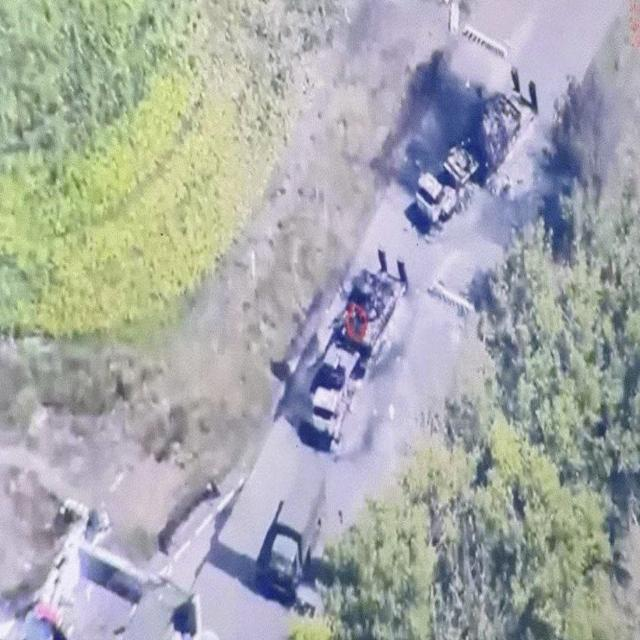vehicle: (333, 246, 410, 377), (264, 469, 324, 608), (476, 61, 539, 160), (414, 137, 477, 233), (305, 345, 360, 451)
